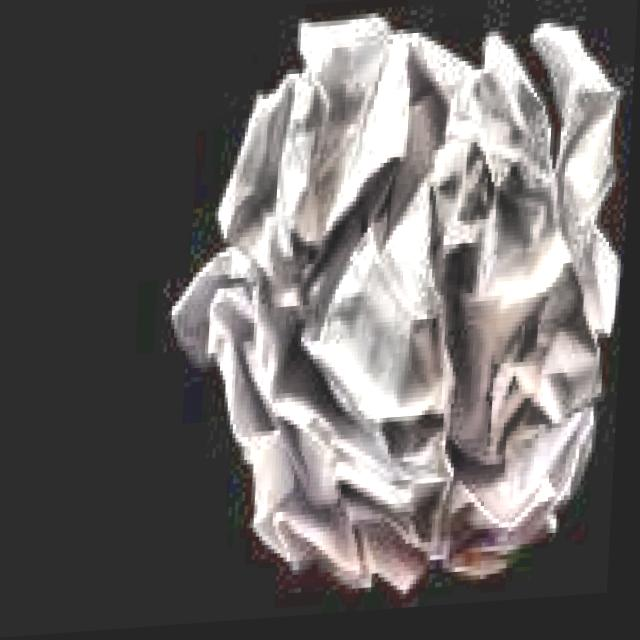Paper: (146, 0, 639, 630)
